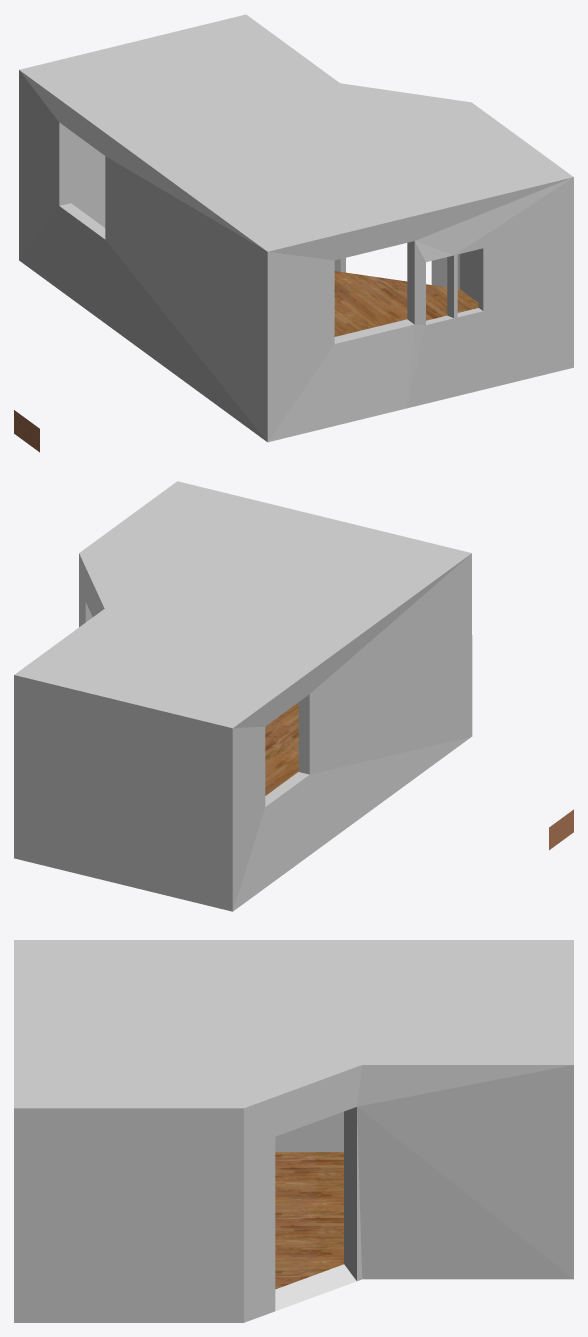
The model's file is Kitchen.fbx.
3 views of the same model, one above another, from view 1: azimuth 30°, elevation 25°; view 2: azimuth 150°, elevation 25°; view 3: azimuth 270°, elevation 25° (orthographic). The views are drawn at different scales.
Parts seen in each view (by area): view 1: Model; view 2: Model; view 3: Model.
Part boxes in pixels (bbox=[...]): Model: bbox=[14, 14, 573, 452]; Model: bbox=[14, 481, 573, 911]; Model: bbox=[14, 940, 573, 1322].
Size of the model in its own units: 681 by 282 by 620.
